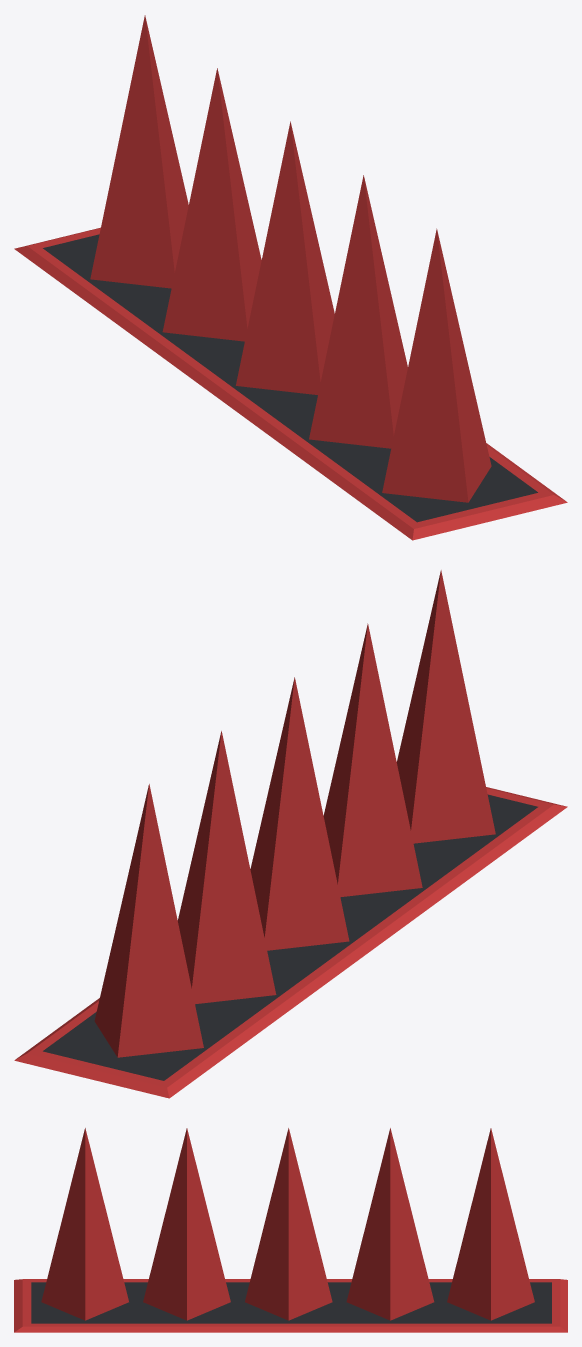
The model's file is hareketli_kapan.fbx.
The picture shows the model from 3 angles, top to bottom: view 1: azimuth 30°, elevation 25°; view 2: azimuth 150°, elevation 25°; view 3: azimuth 270°, elevation 25°; orthographic projection. The views are drawn at different scales.
Parts seen in each view (by area): view 1: hareketli kapan; view 2: hareketli kapan; view 3: hareketli kapan.
Boxes of the visible parts, left/top/right/bottom form: hareketli kapan: left=14, top=15, right=567, bottom=540; hareketli kapan: left=14, top=570, right=567, bottom=1098; hareketli kapan: left=14, top=1128, right=567, bottom=1332.
Size of the model in its own units: 98.34 by 157 by 437.
